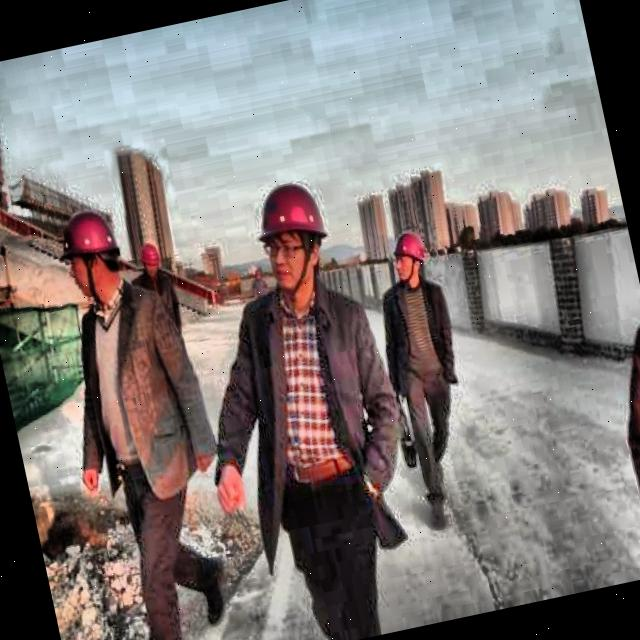helmet: (246, 172, 344, 304), (55, 204, 132, 306), (385, 224, 435, 290), (132, 236, 166, 286)
